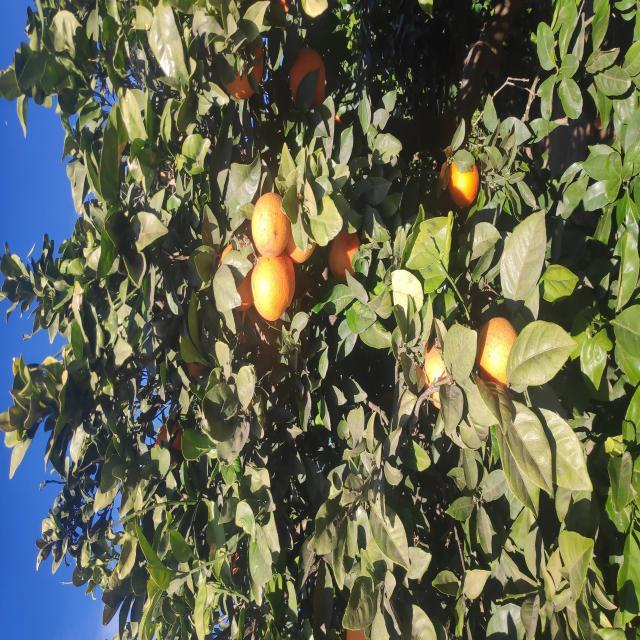Jeruk Sudah Matang: (320, 252, 388, 296), (252, 476, 324, 516), (386, 252, 449, 288), (431, 439, 488, 478), (536, 288, 594, 326), (542, 226, 596, 266), (357, 330, 416, 362), (230, 423, 294, 447)
